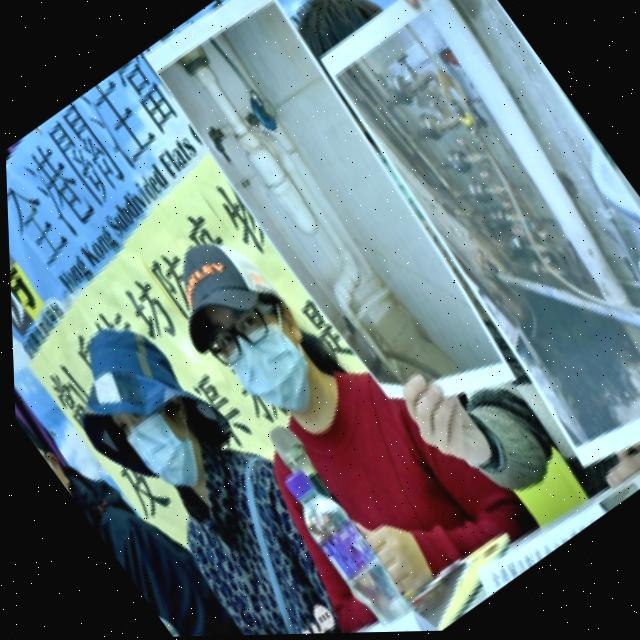Mask: (214, 304, 343, 435), (117, 398, 225, 505), (42, 455, 88, 516)
